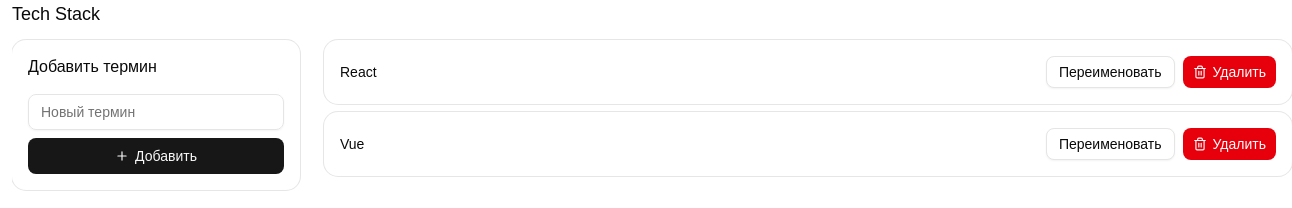
it: TaxonomyEditor rename no-op guard › disables the rename-confirm button when the value is unchanged
The width and height of the screenshot is (1292, 208).
Expected: the text "React" is shown, [340,62,377,82]
Click the button "Переименовать" in the row of "React": (1110, 72) [1046,56,1174,88]
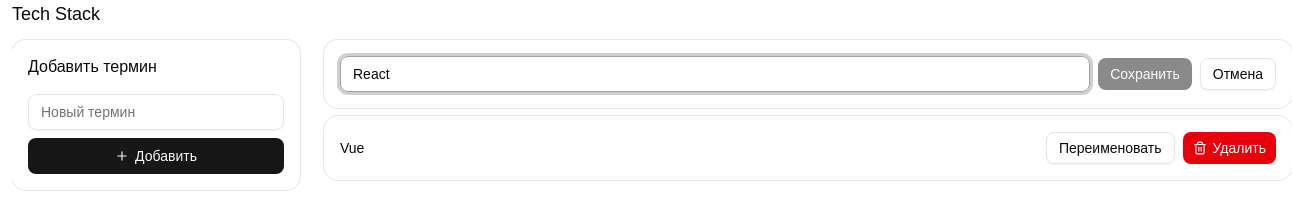
Expected: the button "Сохранить" is disabled, [1098,58,1192,90]
